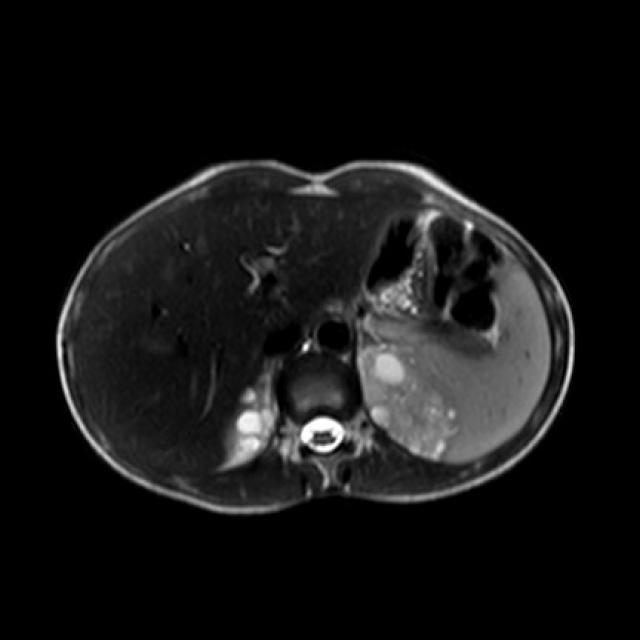sag: (226, 378, 275, 462)
sol: (358, 339, 459, 460)
